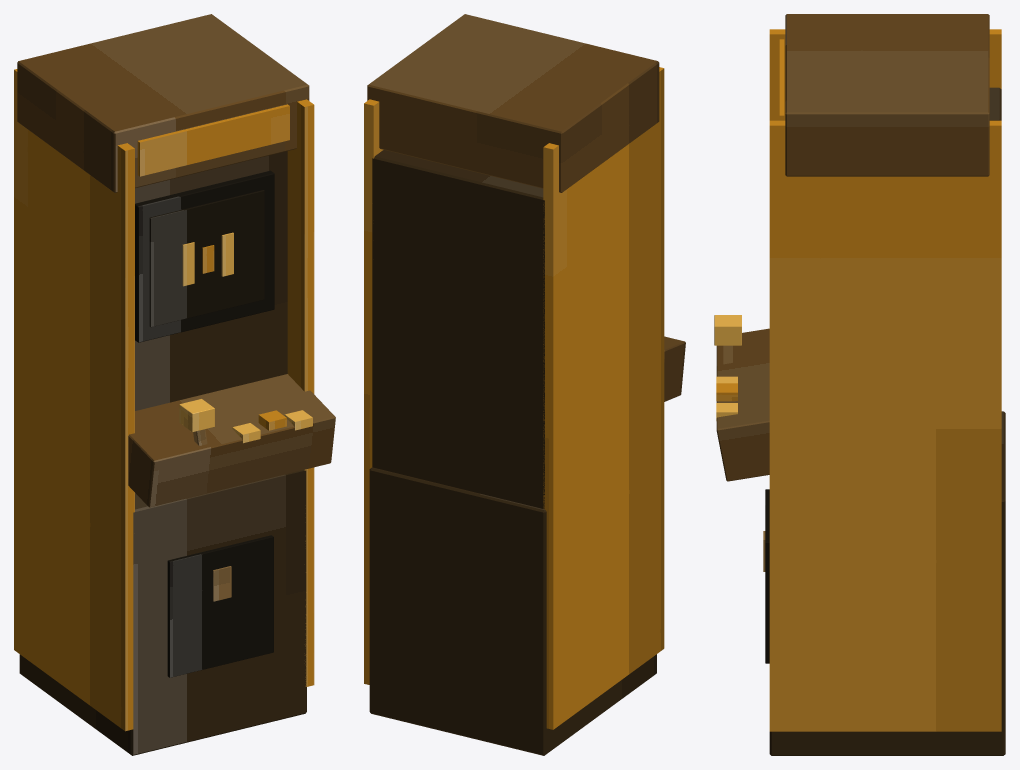
File: arcade_cabinet_amber.glb
3 renders of one model, left to right at view 1: azimuth 30°, elevation 25°; view 2: azimuth 150°, elevation 25°; view 3: azimuth 270°, elevation 25°, orthographic. The views are drawn at different scales.
Visible parts, largest first — view 1: EdgeTrim_L, CabinetBase, Marquee, ControlDeck, CabinetUpper, CoinDoor, ScreenGlass, EdgeTrim_R, ScreenRecess, MarqueeFace, JoystickTop, CoinSlot (+2 smaller); view 2: EdgeTrim_L, CabinetUpper, CabinetBase, Marquee, EdgeTrim_R, ControlDeck; view 3: EdgeTrim_R, Marquee, CabinetBase, ControlDeck, EdgeTrim_L, CoinDoor, JoystickTop.
Part boxes in pixels (<box>): EdgeTrim_L: <box>14,69,134,731</box>; CabinetBase: <box>19,470,306,755</box>; Marquee: <box>17,14,309,192</box>; ControlDeck: <box>128,374,335,507</box>; CabinetUpper: <box>135,151,287,493</box>; CoinDoor: <box>167,535,273,677</box>; ScreenGlass: <box>149,190,264,327</box>; EdgeTrim_R: <box>287,99,314,686</box>; ScreenRecess: <box>135,170,274,342</box>; MarqueeFace: <box>137,104,289,176</box>; JoystickTop: <box>179,399,214,432</box>; CoinSlot: <box>213,566,231,601</box>; EdgeTrim_L: <box>543,67,664,729</box>; CabinetUpper: <box>372,150,544,508</box>; CabinetBase: <box>369,467,656,755</box>; Marquee: <box>367,14,659,192</box>; EdgeTrim_R: <box>364,99,383,684</box>; ControlDeck: <box>664,336,685,401</box>; EdgeTrim_R: <box>769,120,1001,731</box>; Marquee: <box>785,14,989,176</box>; CabinetBase: <box>769,411,1005,755</box>; ControlDeck: <box>716,328,769,481</box>; EdgeTrim_L: <box>769,29,1001,120</box>; CoinDoor: <box>765,489,769,663</box>; JoystickTop: <box>714,315,741,345</box>.
Bounding box in the file's own units: 0.6 × 1.82 × 0.74.
Materials: 1 (1 with a texture image).
